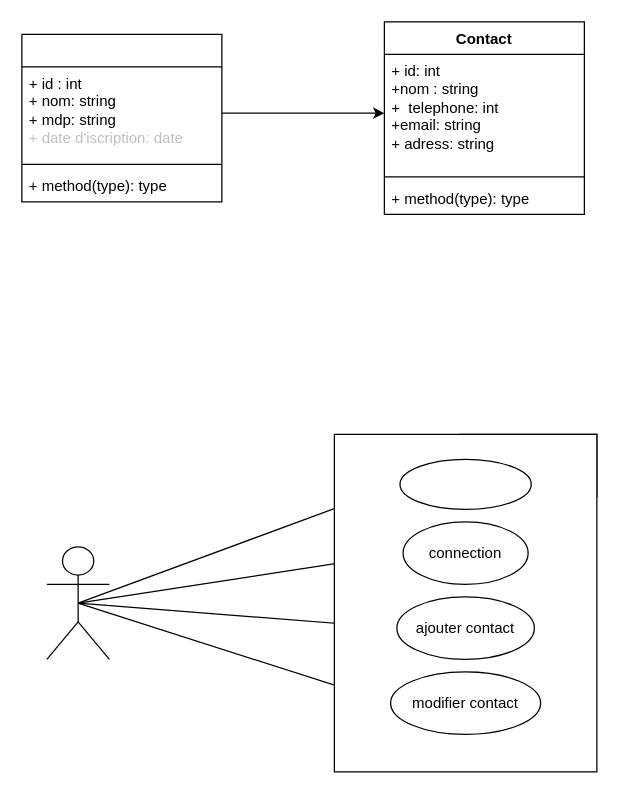
Some shapes in this 619 by 794 pixel diagram are drawn without their labels. Each missing label, with the box of its shape:
creer un compte: (399, 458, 531, 509)
User: (21, 33, 222, 202)
Utilisateur: (46, 546, 109, 659)
